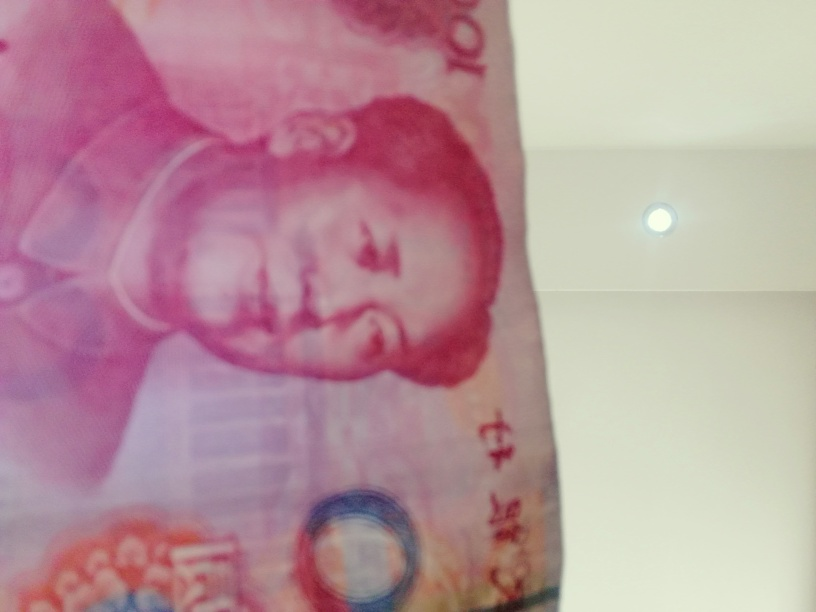rmb: (1, 1, 560, 610)
